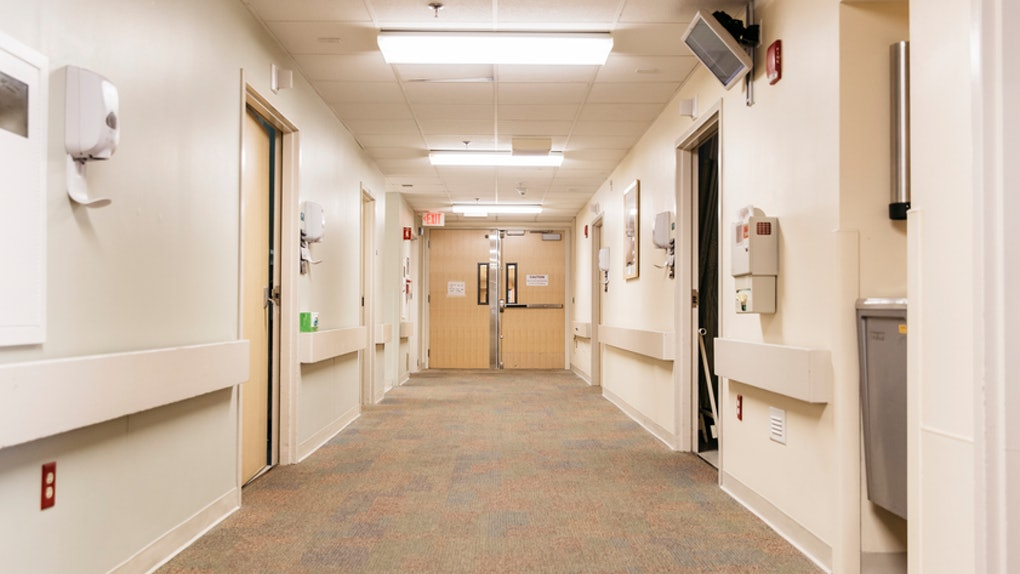TV: (675, 13, 754, 94)
dispenser: (65, 64, 121, 212), (302, 201, 326, 266), (652, 211, 672, 269), (598, 246, 610, 284)
door_handle: (263, 288, 276, 313)
hallway_assist_bar: (3, 338, 249, 448), (711, 330, 833, 407), (592, 323, 672, 368), (286, 320, 366, 365), (397, 318, 421, 348), (569, 314, 593, 344), (371, 323, 395, 353)
medical_waste_container: (727, 209, 780, 311)
push_latch: (500, 299, 563, 312)
